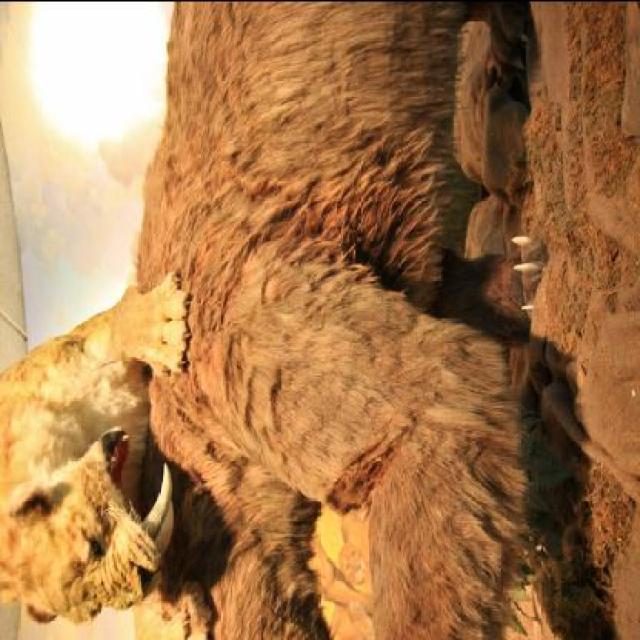Lion: (0, 212, 208, 638)
